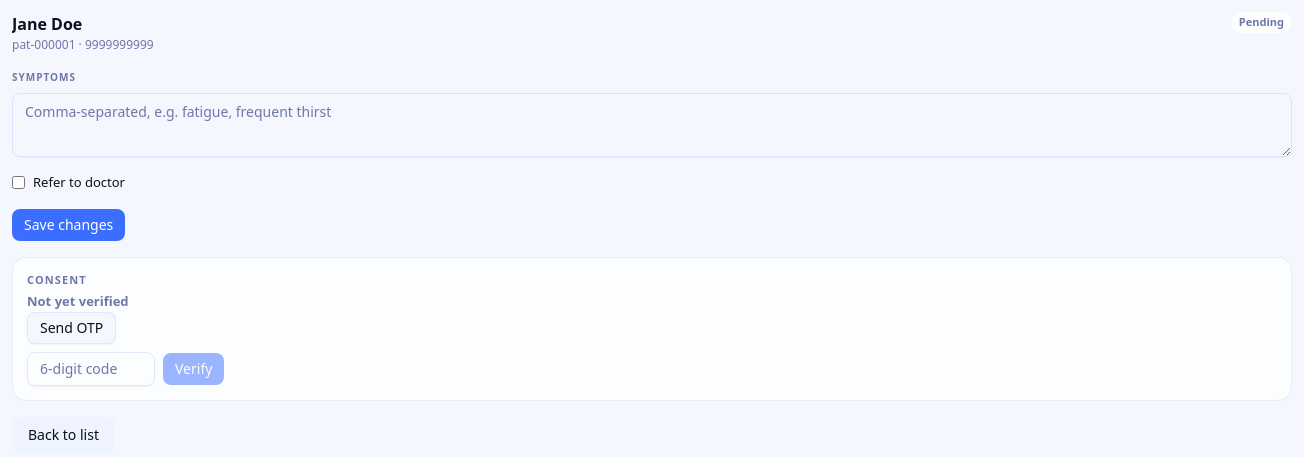
Test case: ScreeningDetail › regression (QUP-411 S2): messy comma input is both submitted AND displayed cleaned after save, not left showing the raw typed text
Type "fever, , cough,," into the text box with placeholder "Comma-separated, e.g. fatigue, frequent thirst".
click(652, 125); type("fever, , cough,,")  # box [12, 93, 1292, 157]
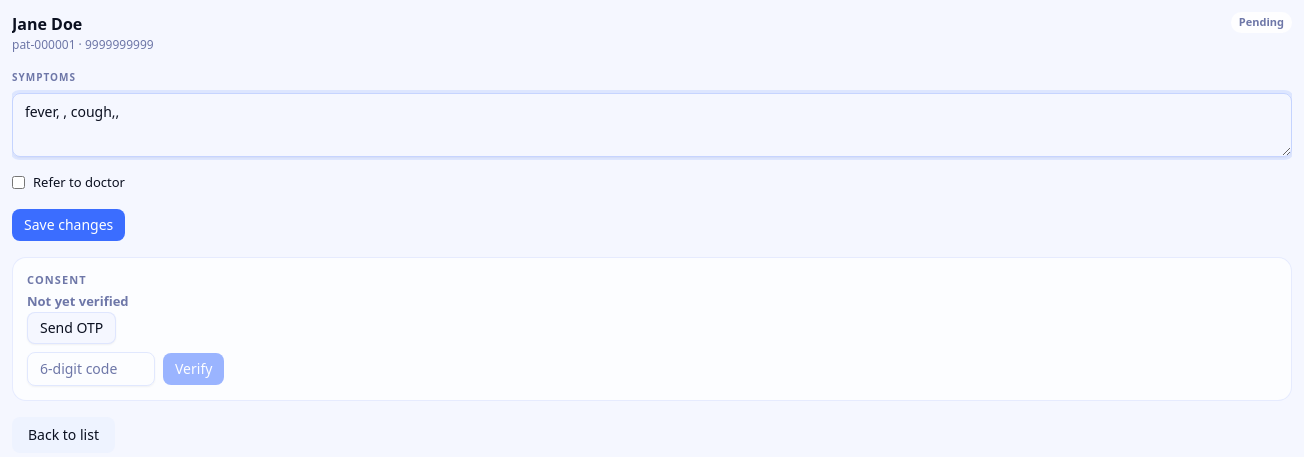
Click the button "Save changes".
click(69, 224)  # box [12, 208, 125, 240]
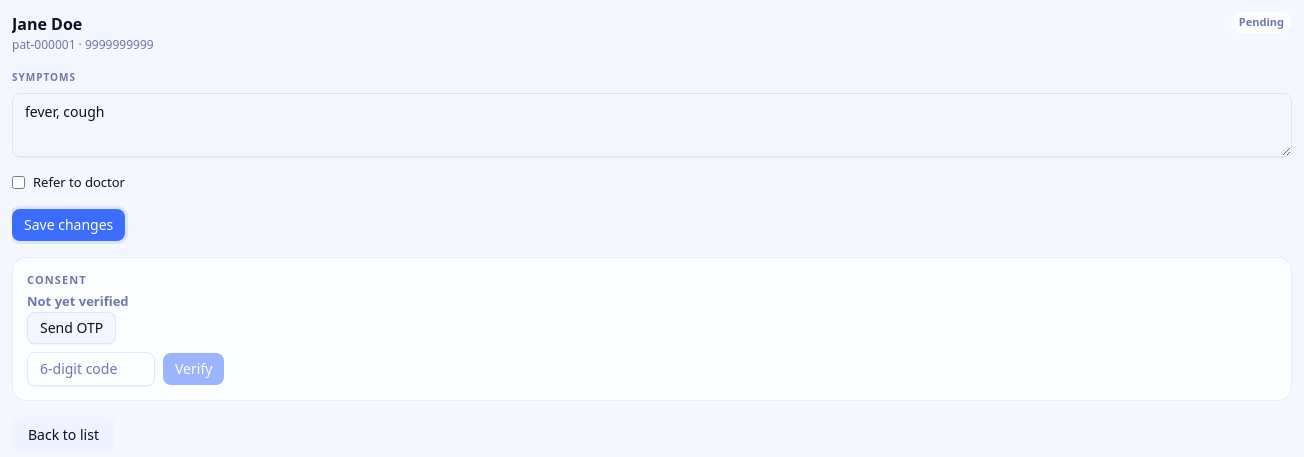
Now the text box with placeholder "Comma-separated, e.g. fatigue, frequent thirst" holds "fever, cough", box [12, 93, 1292, 157]
